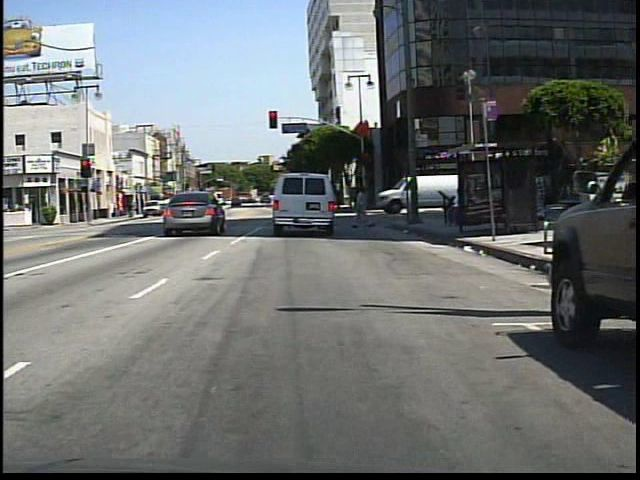person: (352, 183, 376, 233), (174, 192, 189, 218)
